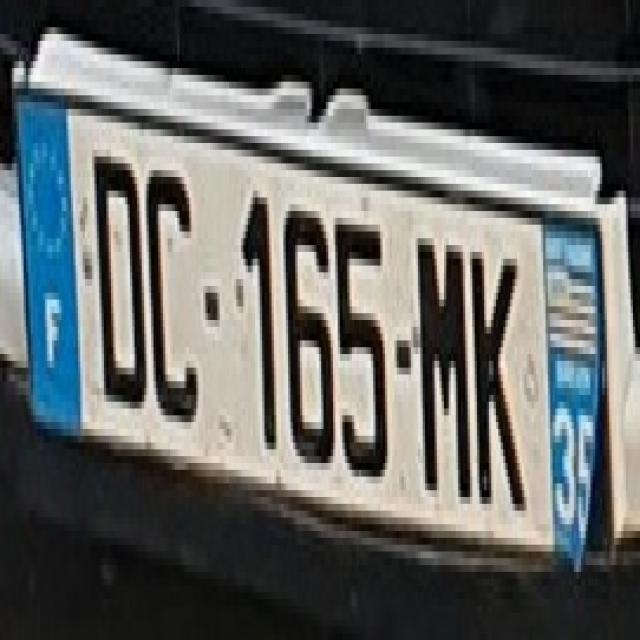EU: (14, 83, 611, 553)
France: (13, 86, 80, 431)
